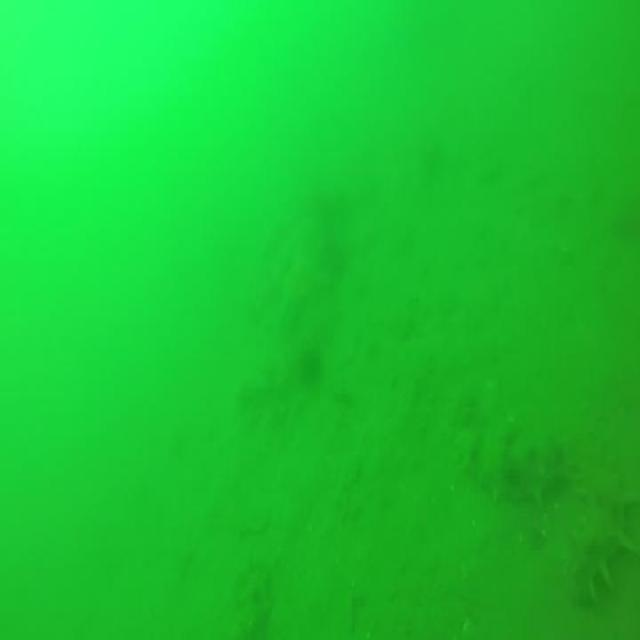holothurian: (569, 416, 626, 596), (457, 425, 571, 499), (230, 556, 276, 640)
